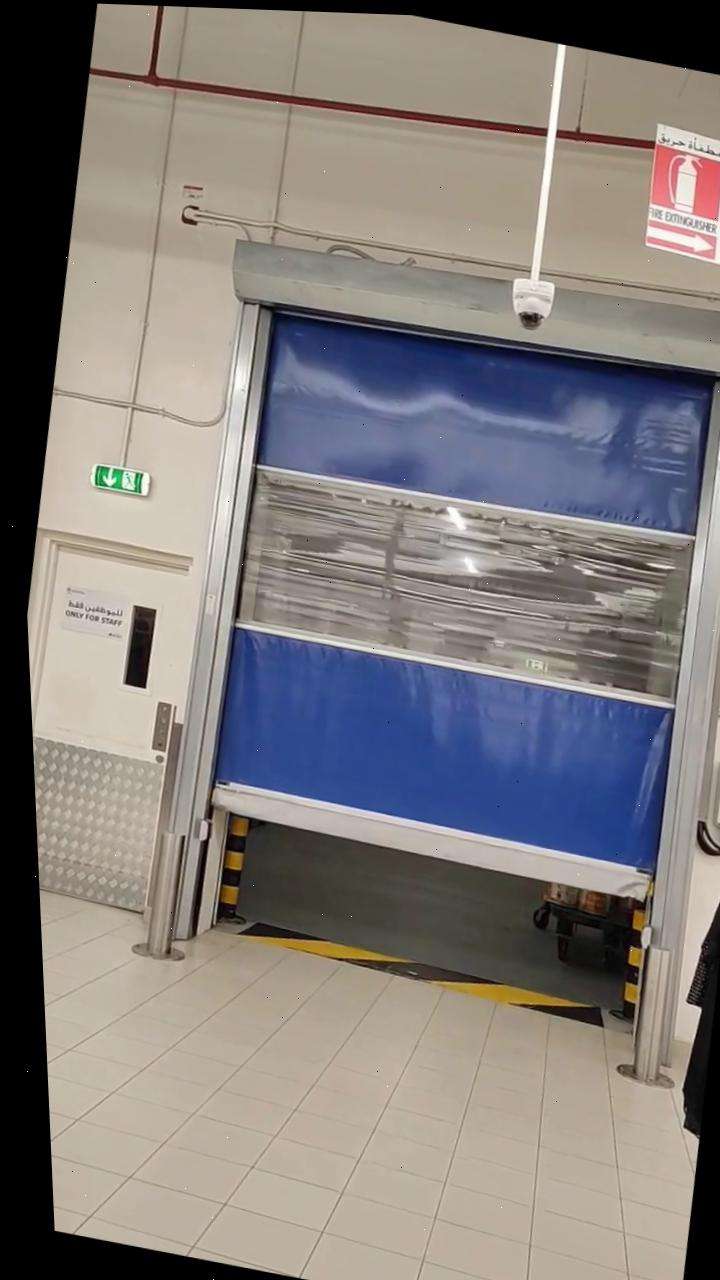Strip: (229, 912, 598, 1025)
